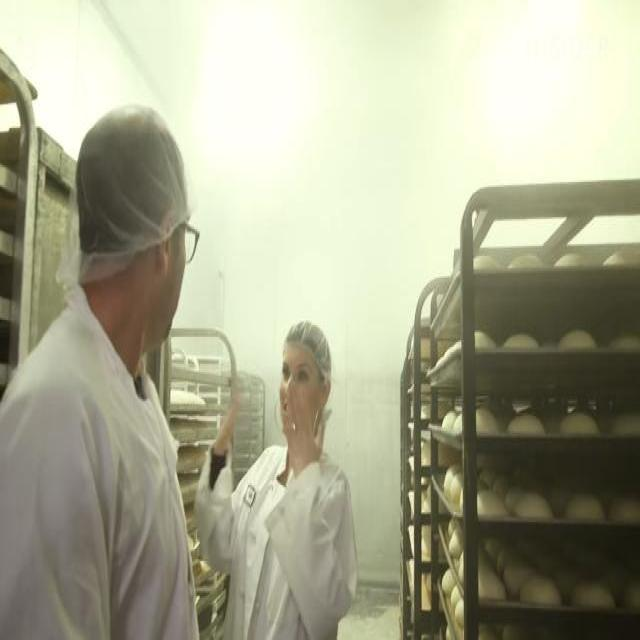hairnet: (77, 102, 190, 261), (283, 316, 328, 370)
